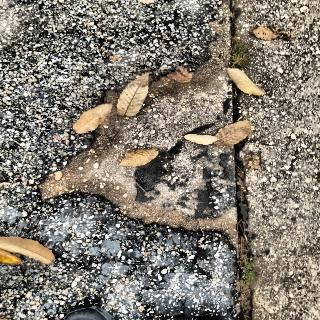pothole: (15, 0, 280, 289)
